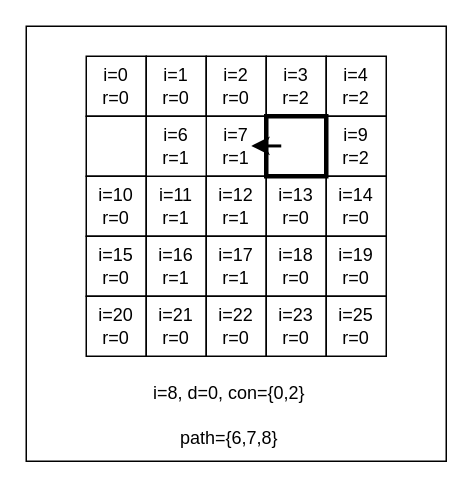
Some shapes in this 473 by 488 pixel diagram are drawn without their labels. The centre of each missing label's shape, as x and y in pixels:
i=5 r=0: point (115, 145)
i=8 r=1: point (295, 145)
